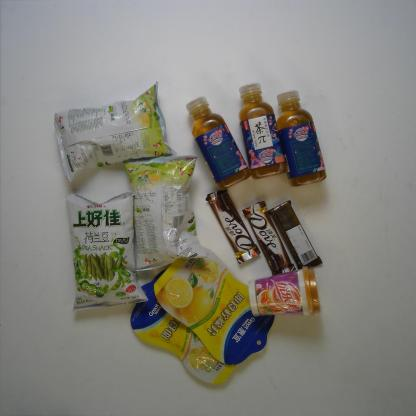Chocolate: (204, 184, 261, 268), (241, 201, 298, 277), (271, 201, 324, 272)
Dried Fruit: (154, 240, 278, 366), (125, 279, 237, 387)
Drink: (184, 97, 252, 188), (272, 90, 335, 188), (234, 77, 286, 181)
Instant Drink: (248, 262, 322, 322)
Puffed Food: (51, 80, 182, 186), (120, 148, 212, 274), (65, 190, 150, 314)
